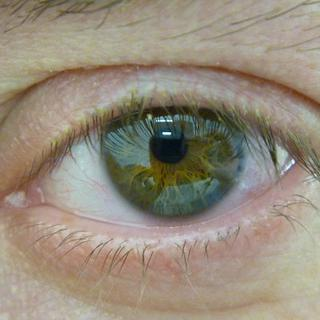pupil: (149, 127, 185, 163)
